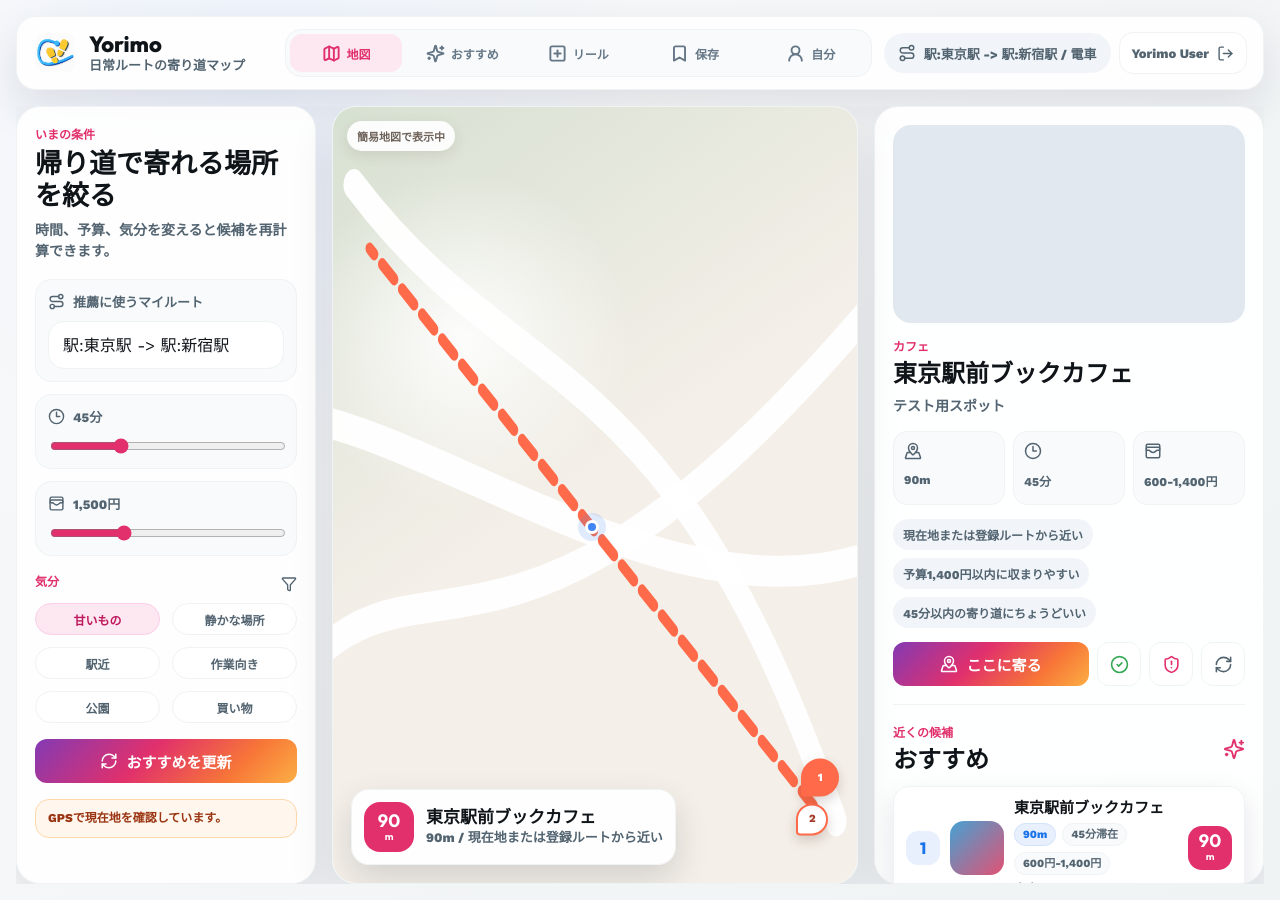
Test: Yorimo frontend › renders the desktop planning layout after session validation
Check: the heading "帰り道で寄れる場所を絞る" is shown, box [35,148,297,212]
Check: the element with test id "desktop-map-page" is shown, box [332,106,858,884]
Click the link "おすすめ" at (462, 53), box [426,44,499,62]
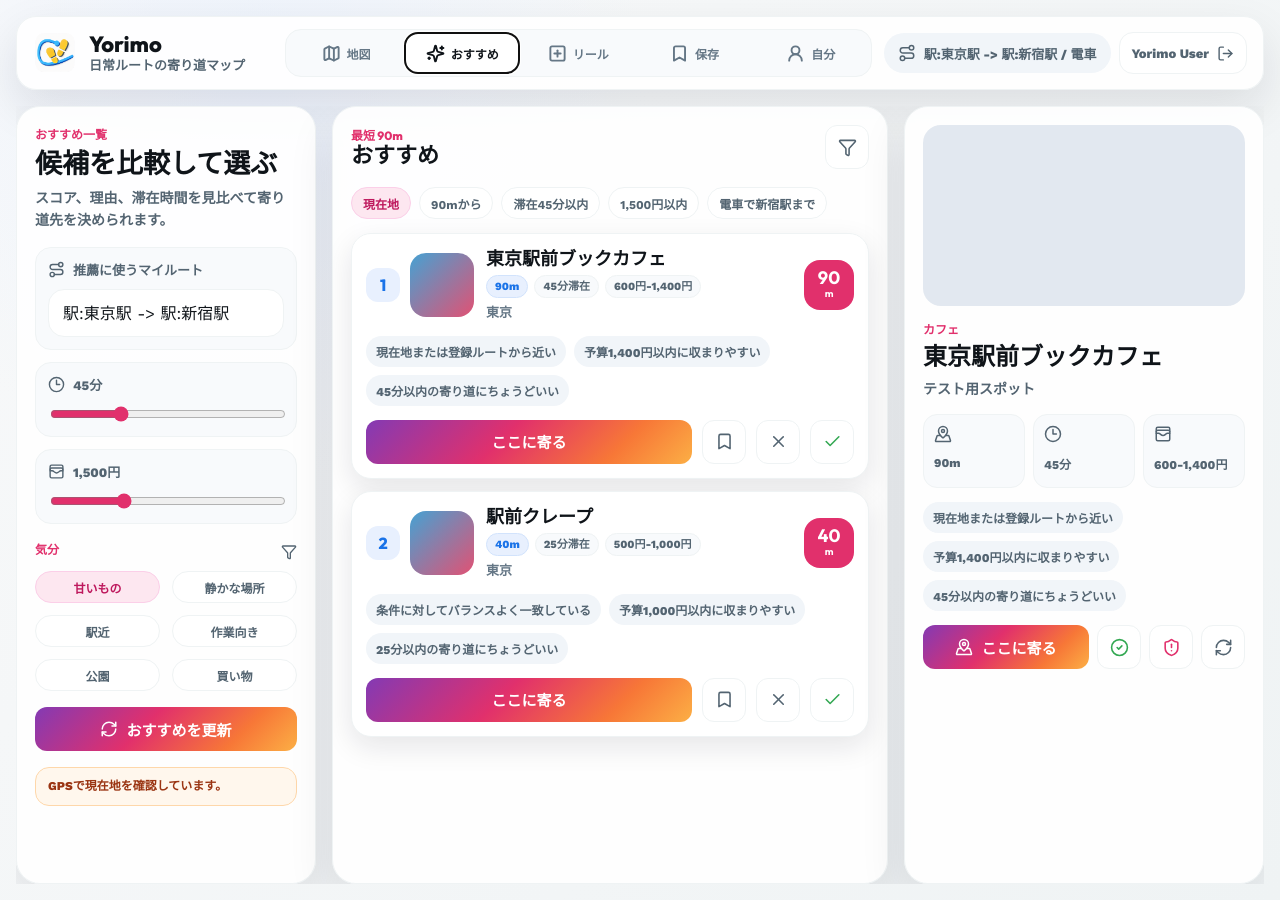
Check: the text "1" is shown, box [366,268,400,302]
Check: the element with test id "desktop-recommendations-page" is shown, box [332,106,888,884]
Check: the text "最短 90m" is shown, box [351,128,403,143]
